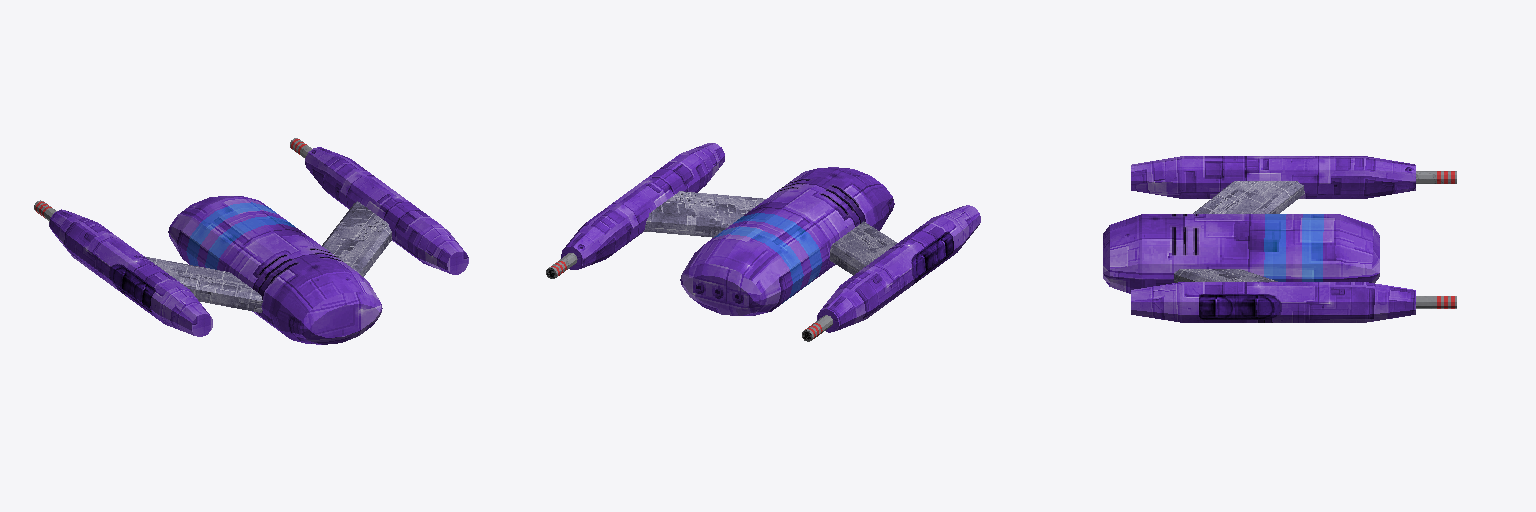
3 renders of one model, left to right at view 1: azimuth 30°, elevation 25°; view 2: azimuth 150°, elevation 25°; view 3: azimuth 270°, elevation 25°, orthographic.
Visible parts, largest first — view 1: body, sidegun2, sidegun1, wing1, wing2; view 2: body, sidegun2, sidegun1, wing1, wing2; view 3: body, sidegun1, sidegun2, wing2, wing1.
Part boxes in pixels (left/top/right/bottom): body: left=168, top=196, right=382, bottom=344; sidegun2: left=34, top=200, right=212, bottom=336; sidegun1: left=290, top=138, right=468, bottom=274; wing1: left=322, top=201, right=391, bottom=276; wing2: left=144, top=256, right=262, bottom=312; body: left=680, top=167, right=894, bottom=315; sidegun2: left=802, top=205, right=980, bottom=341; sidegun1: left=546, top=143, right=724, bottom=278; wing1: left=644, top=191, right=765, bottom=237; wing2: left=830, top=221, right=896, bottom=275; body: left=1103, top=214, right=1379, bottom=293; sidegun1: left=1131, top=282, right=1456, bottom=322; sidegun2: left=1131, top=156, right=1456, bottom=198; wing2: left=1193, top=181, right=1304, bottom=213; wing1: left=1174, top=269, right=1277, bottom=282.
Bounding box in the file's own units: 4.65 × 1.09 × 4.89.
Materials: 4 (4 with a texture image).